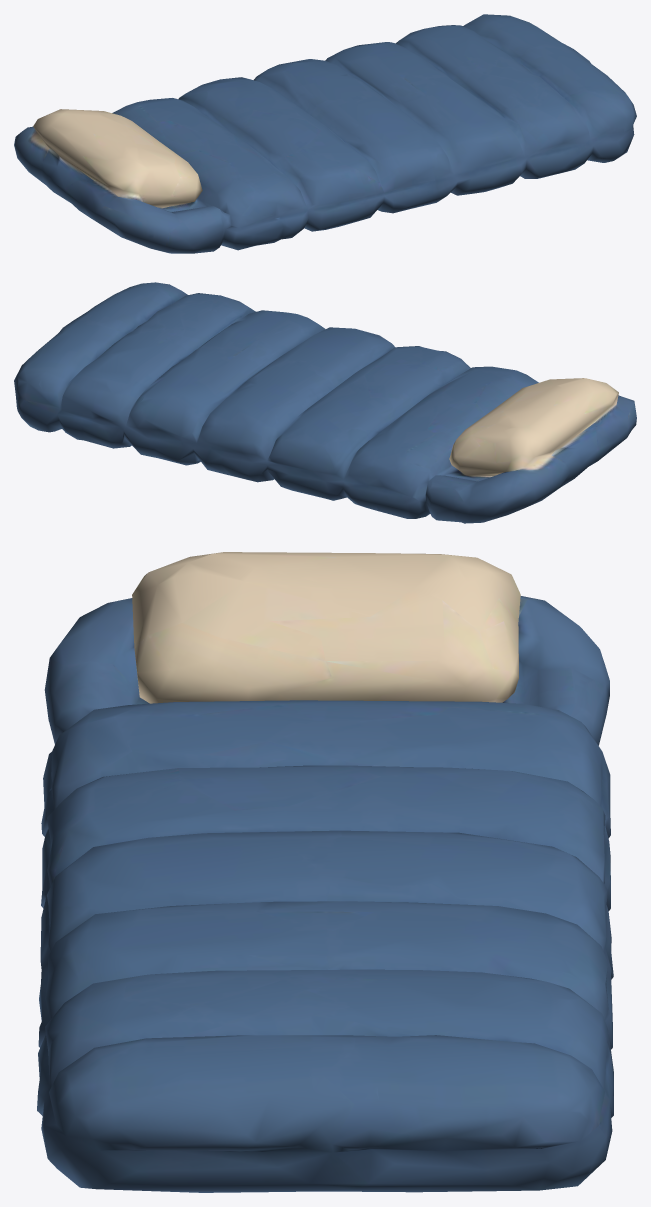
The model's file is f-bedroll.glb.
The picture shows the model from 3 angles, top to bottom: view 1: azimuth 30°, elevation 25°; view 2: azimuth 150°, elevation 25°; view 3: azimuth 270°, elevation 25°; orthographic projection. The views are drawn at different scales.
Visible parts, largest first — view 1: tripo_node_d3708dfa-0be4-4423-836b-ef26a27cabe5; view 2: tripo_node_d3708dfa-0be4-4423-836b-ef26a27cabe5; view 3: tripo_node_d3708dfa-0be4-4423-836b-ef26a27cabe5.
Boxes of the visible parts, left/top/right/bottom form: tripo_node_d3708dfa-0be4-4423-836b-ef26a27cabe5: left=14, top=14, right=636, bottom=253; tripo_node_d3708dfa-0be4-4423-836b-ef26a27cabe5: left=14, top=282, right=636, bottom=523; tripo_node_d3708dfa-0be4-4423-836b-ef26a27cabe5: left=37, top=552, right=613, bottom=1192.
Size of the model in its own units: 1 by 0.1631 by 0.4718.
Materials: 1 (1 with a texture image).
